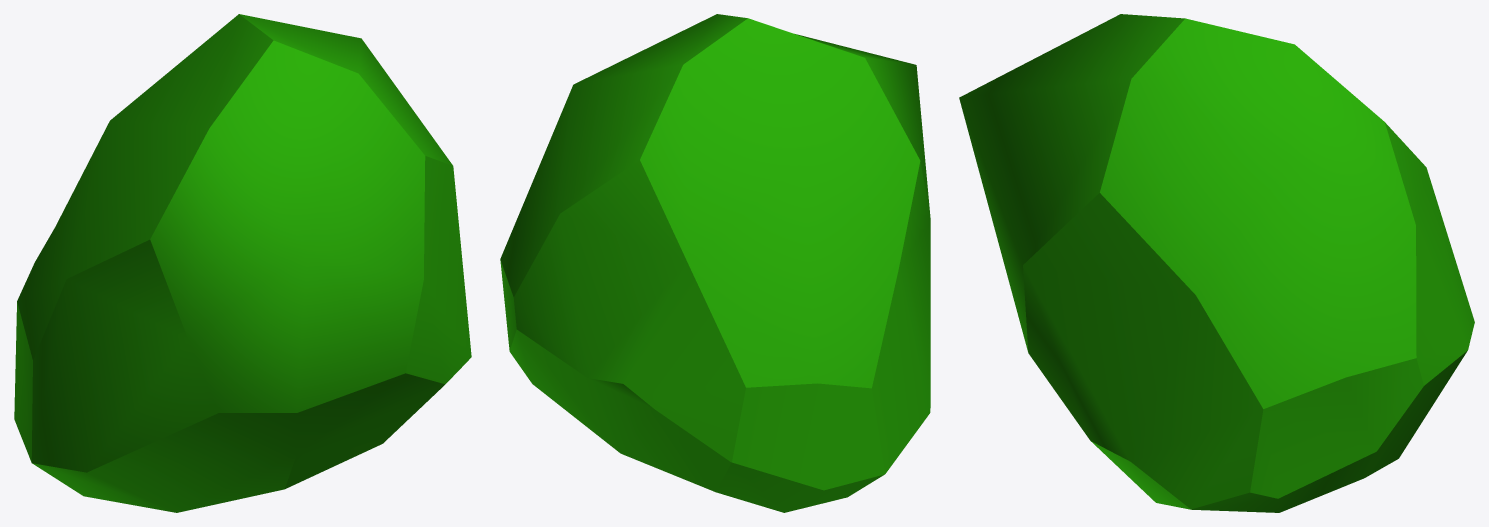
The model's file is tree_leaf_C.fbx.
3 renders of one model, left to right at view 1: azimuth 30°, elevation 25°; view 2: azimuth 150°, elevation 25°; view 3: azimuth 270°, elevation 25°, orthographic. The views are drawn at different scales.
Visible parts, largest first — view 1: tree_leaf_C; view 2: tree_leaf_C; view 3: tree_leaf_C.
Part boxes in pixels (x1,y1,x2,y2): tree_leaf_C: (14, 14, 471, 512); tree_leaf_C: (500, 14, 930, 512); tree_leaf_C: (959, 14, 1474, 512).
Bounding box in the file's own units: 66.88 × 72.46 × 70.42.
